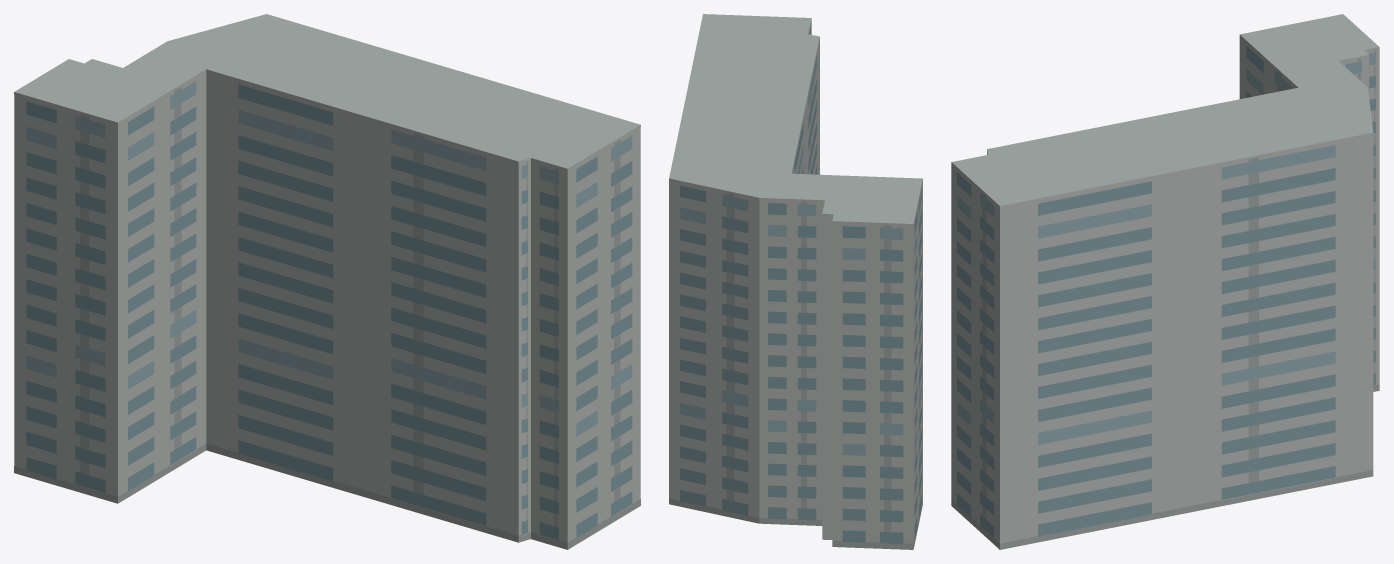
The model's file is residential-c8408f83-6d2c-48f9-b74f-77e268bd274a.glb.
3 renders of one model, left to right at view 1: azimuth 30°, elevation 25°; view 2: azimuth 150°, elevation 25°; view 3: azimuth 270°, elevation 25°, orthographic. The views are drawn at different scales.
Visible parts, largest first — view 1: residential-c8408f83-6d2c-48f9-b74f-77e268bd274a.tmp; view 2: residential-c8408f83-6d2c-48f9-b74f-77e268bd274a.tmp; view 3: residential-c8408f83-6d2c-48f9-b74f-77e268bd274a.tmp.
Part boxes in pixels (x1,y1,x2,y2): residential-c8408f83-6d2c-48f9-b74f-77e268bd274a.tmp: [14, 14, 640, 549]; residential-c8408f83-6d2c-48f9-b74f-77e268bd274a.tmp: [669, 14, 922, 549]; residential-c8408f83-6d2c-48f9-b74f-77e268bd274a.tmp: [951, 14, 1379, 549].
Bounding box in the file's own units: 47.94 × 40 × 45.14.
